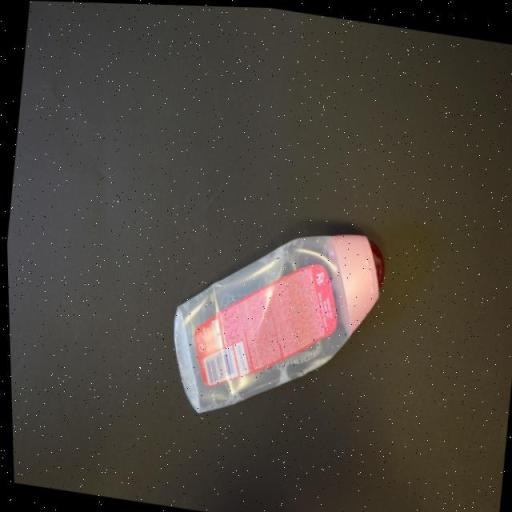plastic: (158, 202, 392, 437)
